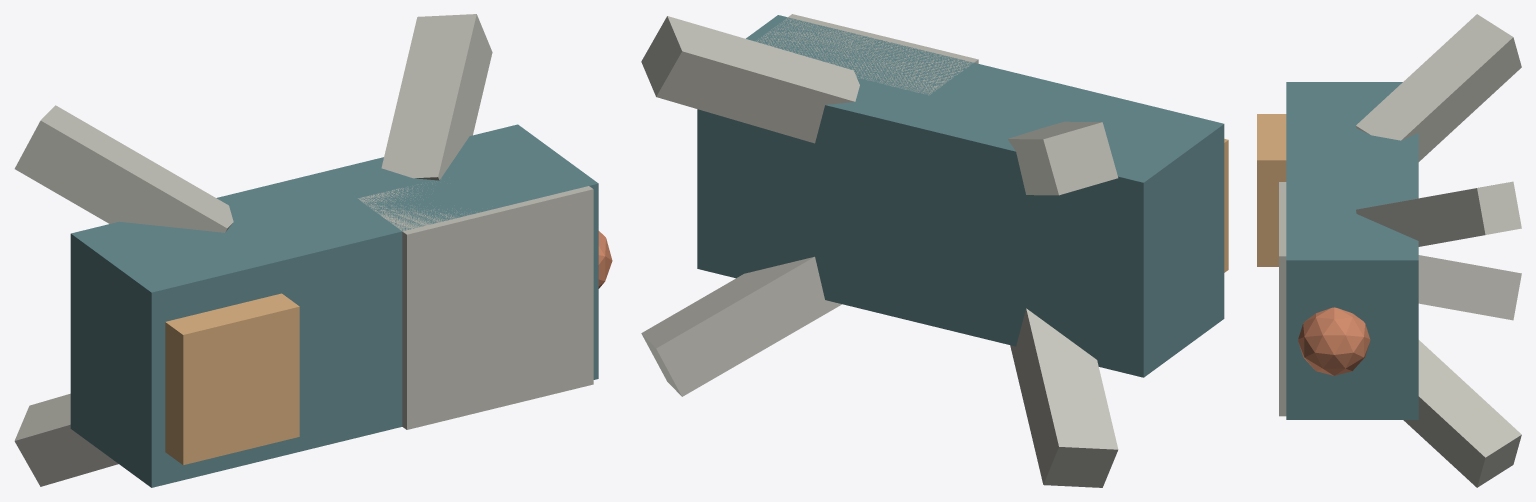
File: rusher.glb
3 renders of one model, left to right at view 1: azimuth 30°, elevation 25°; view 2: azimuth 150°, elevation 25°; view 3: azimuth 270°, elevation 25°, orthographic. The views are drawn at different scales.
Visible parts, largest first — view 1: core, wedge_head, back_battery, leg_rear_left, leg_front_left, leg_rear_right; view 2: core, leg_front_left, leg_front_right, leg_rear_right, leg_rear_left, wedge_head, back_battery; view 3: core, leg_rear_left, leg_front_right, leg_front_left, leg_rear_right, back_battery, optic, wedge_head.
Part boxes in pixels (bbox=[...]): core: bbox=[70, 124, 598, 487]; wedge_head: bbox=[358, 181, 593, 429]; back_battery: bbox=[165, 293, 299, 465]; leg_rear_left: bbox=[14, 105, 233, 232]; leg_front_left: bbox=[381, 14, 492, 180]; leg_rear_right: bbox=[14, 393, 118, 486]; core: bbox=[697, 15, 1224, 377]; leg_front_left: bbox=[641, 16, 859, 143]; leg_front_right: bbox=[641, 256, 841, 396]; leg_rear_right: bbox=[1010, 308, 1118, 487]; leg_rear_left: bbox=[1007, 121, 1118, 195]; wedge_head: bbox=[755, 14, 978, 95]; back_battery: bbox=[1224, 139, 1228, 272]; core: bbox=[1286, 82, 1418, 419]; leg_rear_left: bbox=[1356, 14, 1521, 161]; leg_front_right: bbox=[1403, 340, 1521, 487]; leg_front_left: bbox=[1356, 181, 1521, 246]; leg_rear_right: bbox=[1418, 255, 1521, 320]; back_battery: bbox=[1257, 114, 1286, 266]; optic: bbox=[1298, 307, 1370, 375]; wedge_head: bbox=[1279, 182, 1286, 416].
Size of the model in its own units: 1.28 by 0.9008 by 0.7211.
